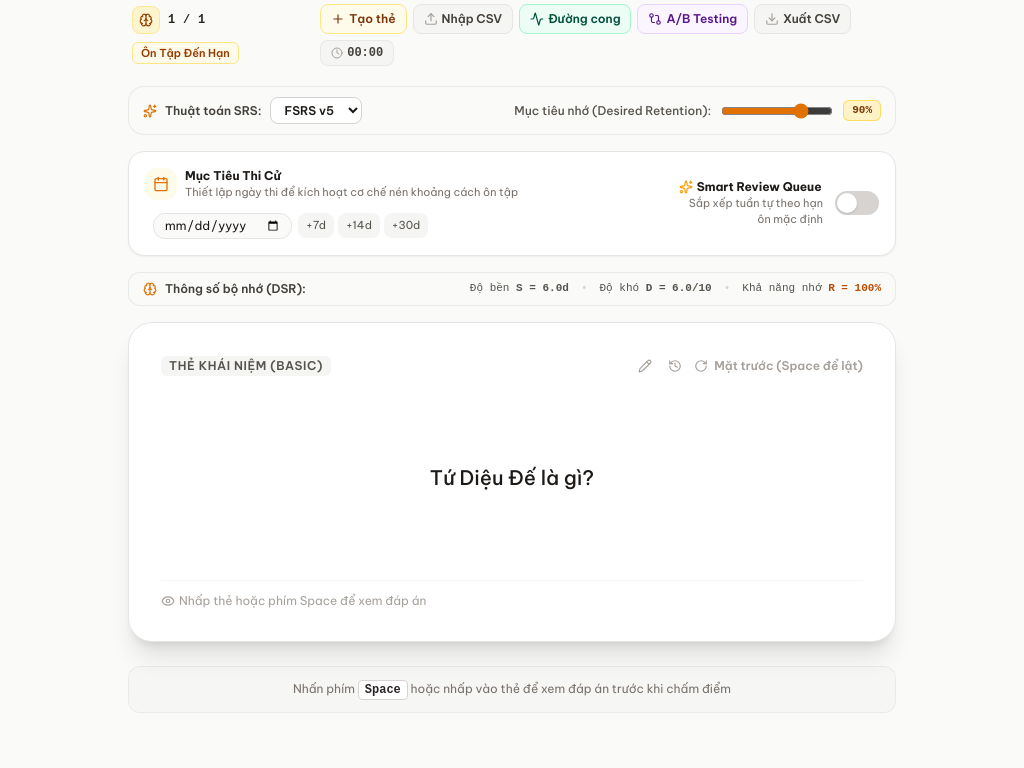
Test case: Phase F6.11 Task 4: View History Modal & Timeline › FlashcardReviewStudio History Integration & Shortcut › opens history modal on Ctrl+H and shows timeline for active card
Expected: the text "Tứ Diệu Đế là gì?" is shown, [430,465,594,490]
Expected: the button with test id "btn-view-card-history" is shown, [664,354,686,376]
// Press Ctrl+H
Press h
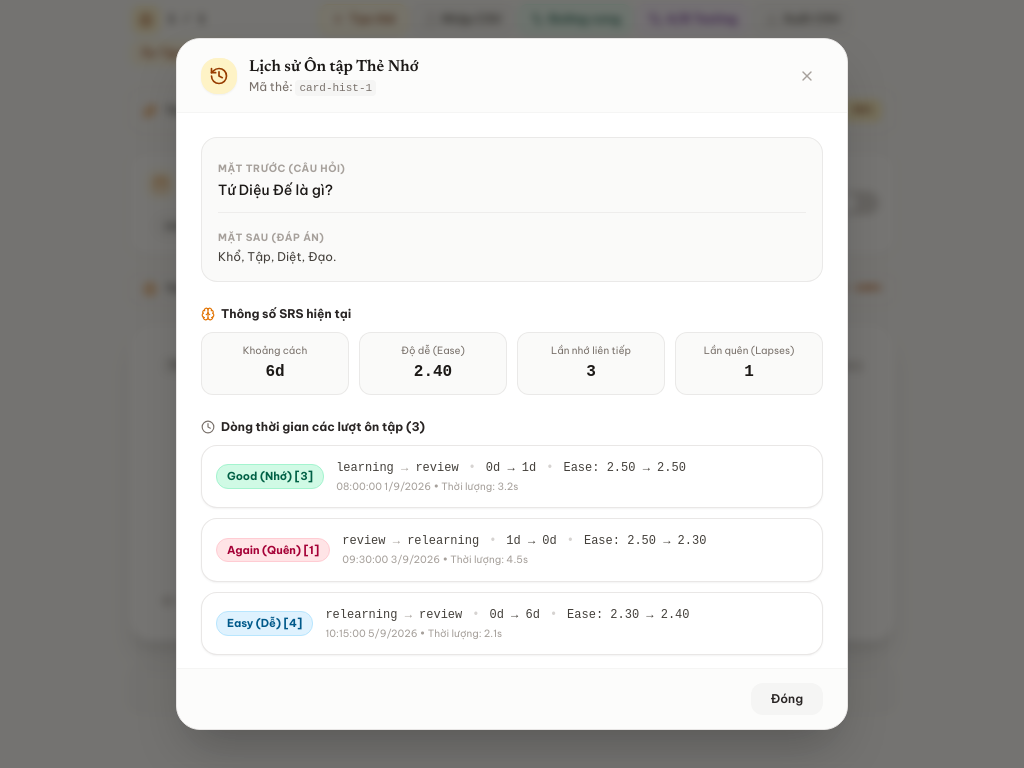
Expected: the dialog "Lịch sử Ôn tập Thẻ Nhớ" is shown
Expected: the text with test id "history-stat-interval" reads "6d", [265,363,285,381]
// Close modal
Click the button with test id "btn-close-history-footer": x=787, y=699 [751,683,823,715]
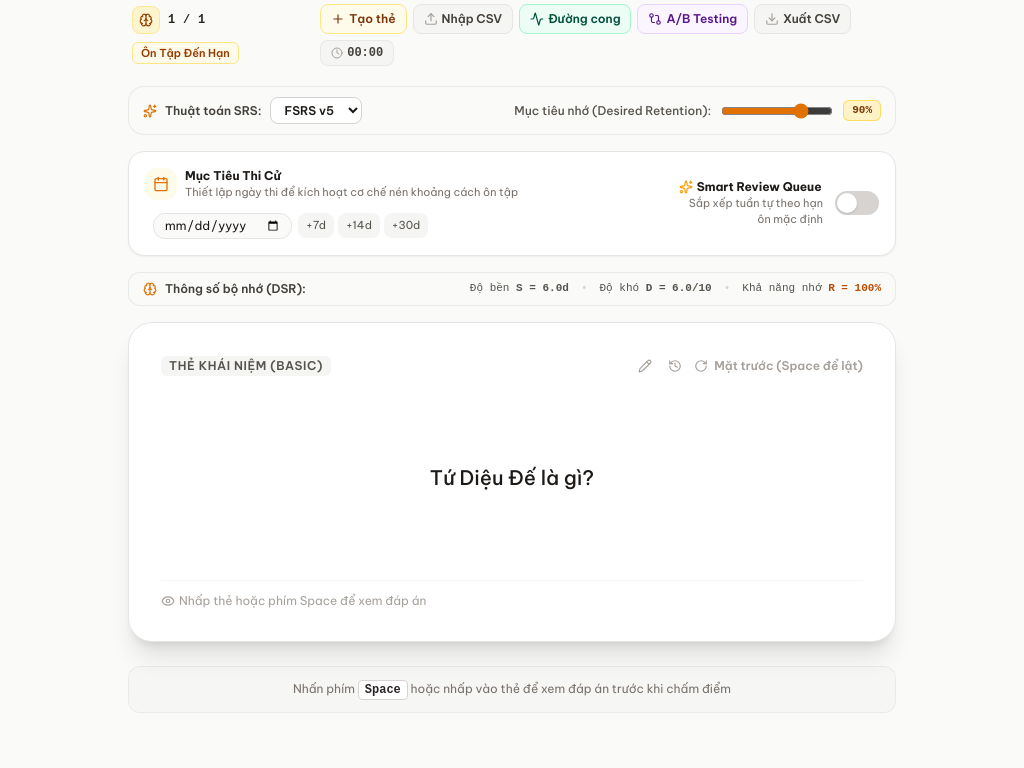
Expected: the heading "Lịch sử Ôn tập Thẻ Nhớ" is gone
